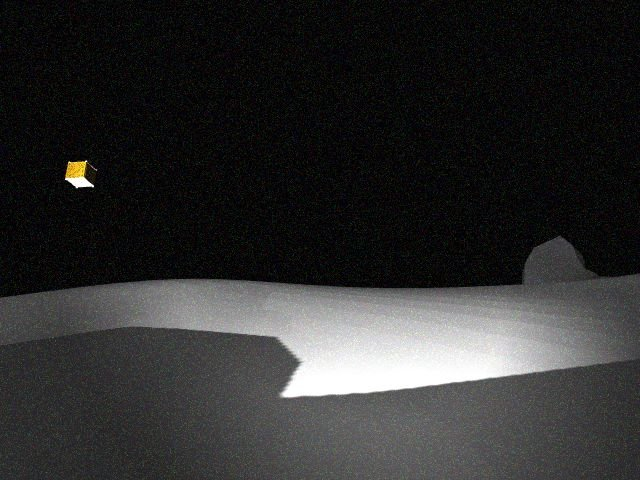cubesat: (56, 157, 110, 196)
